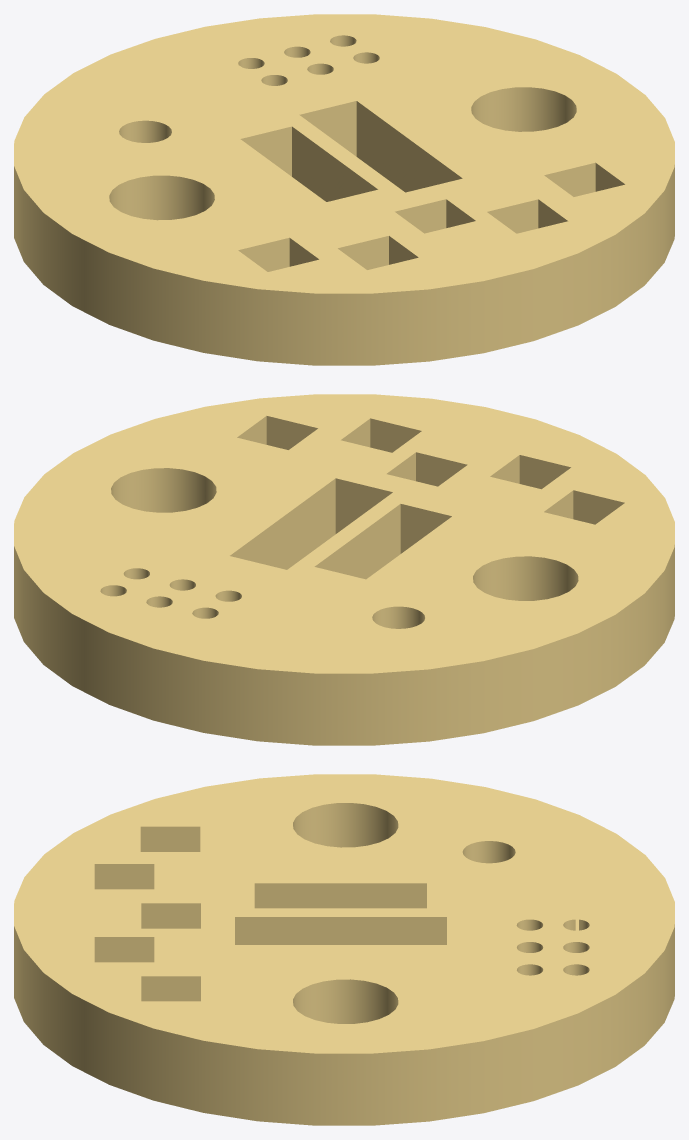
The model's file is original-6.obj.
3 renders of one model, top to bottom at view 1: azimuth 30°, elevation 25°; view 2: azimuth 150°, elevation 25°; view 3: azimuth 270°, elevation 25°, orthographic.
Parts seen in each view (by area): view 1: COMPONENT7/Component_1/mesh6/mesh6-geometry#mesh6-geometry; view 2: COMPONENT7/Component_1/mesh6/mesh6-geometry#mesh6-geometry; view 3: COMPONENT7/Component_1/mesh6/mesh6-geometry#mesh6-geometry.
Boxes of the visible parts, x1,y1,x2,y2 form: COMPONENT7/Component_1/mesh6/mesh6-geometry#mesh6-geometry: [14, 14, 674, 365]; COMPONENT7/Component_1/mesh6/mesh6-geometry#mesh6-geometry: [14, 394, 674, 745]; COMPONENT7/Component_1/mesh6/mesh6-geometry#mesh6-geometry: [14, 774, 674, 1125].
Size of the model in its own units: 0.8894 by 0.1071 by 0.8894.
